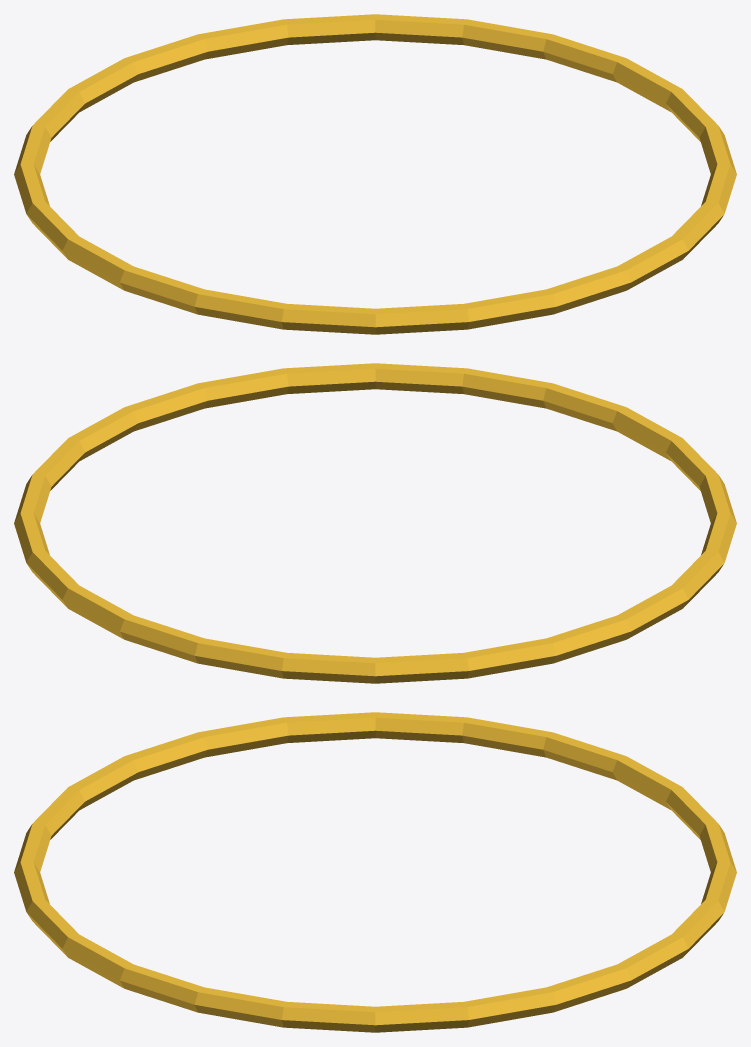
File: Prop_HulaHoop_02.fbx
The picture shows the model from 3 angles, top to bottom: view 1: azimuth 30°, elevation 25°; view 2: azimuth 150°, elevation 25°; view 3: azimuth 270°, elevation 25°; orthographic projection.
Visible parts, largest first — view 1: Prop_HulaHoop_02; view 2: Prop_HulaHoop_02; view 3: Prop_HulaHoop_02.
Boxes of the visible parts, left/top/right/bottom form: Prop_HulaHoop_02: left=14, top=14, right=736, bottom=334; Prop_HulaHoop_02: left=14, top=363, right=736, bottom=683; Prop_HulaHoop_02: left=14, top=712, right=736, bottom=1032.
Bounding box in the file's own units: 83 × 2.6 × 83.
